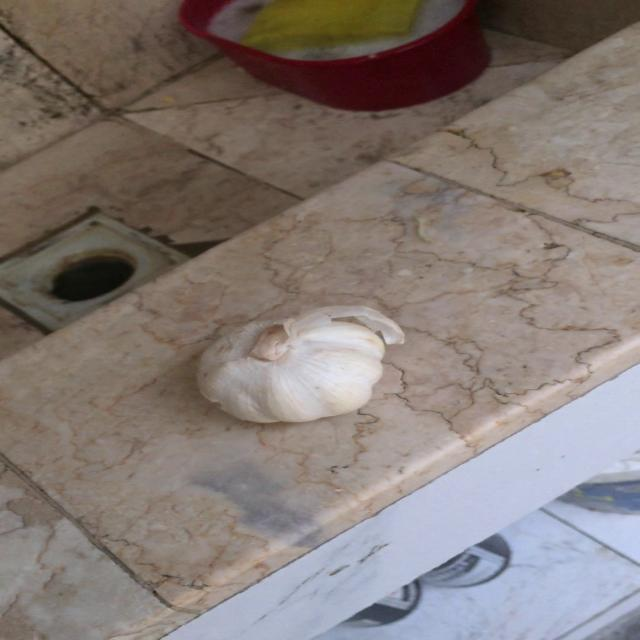garlic: (190, 302, 407, 427)
